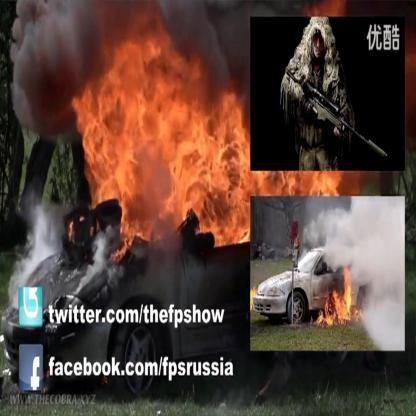fire: (47, 13, 249, 242), (319, 266, 369, 330), (252, 172, 372, 198)
smoke: (13, 0, 72, 128), (317, 202, 408, 270)
